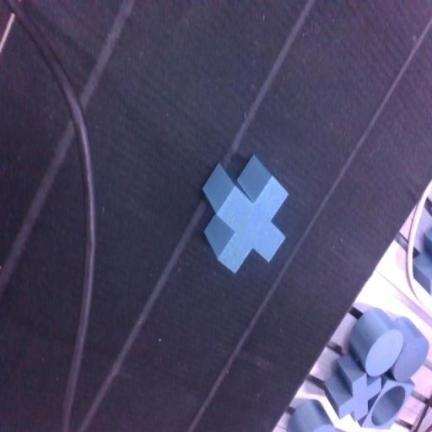cross: (204, 156, 287, 272), (325, 355, 381, 421)
